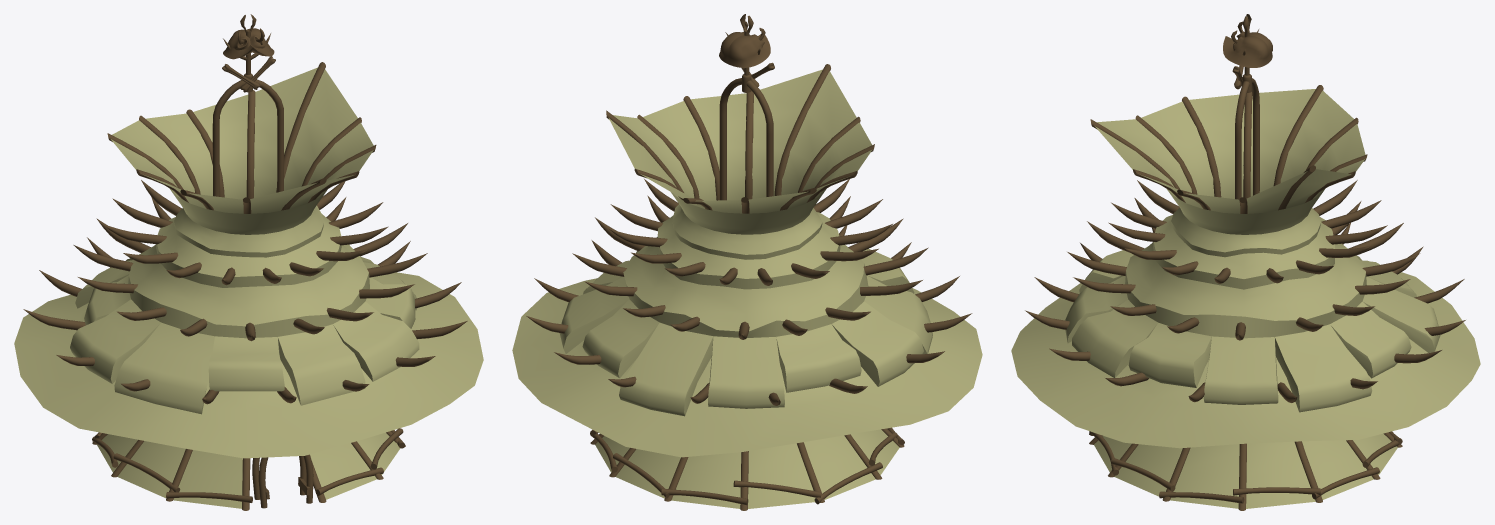
The model's file is Nearest Hut.fbx.
3 renders of one model, left to right at view 1: azimuth 30°, elevation 25°; view 2: azimuth 150°, elevation 25°; view 3: azimuth 270°, elevation 25°, orthographic.
Parts seen in each view (by area): view 1: hut_roof_and_tent_geo, hut_framing_details_geo; view 2: hut_roof_and_tent_geo, hut_framing_details_geo; view 3: hut_roof_and_tent_geo, hut_framing_details_geo.
Boxes of the visible parts, x1,y1,x2,y2 form: hut_roof_and_tent_geo: (14, 67, 483, 508); hut_framing_details_geo: (23, 14, 467, 510); hut_roof_and_tent_geo: (512, 69, 982, 508); hut_framing_details_geo: (526, 14, 972, 510); hut_roof_and_tent_geo: (1011, 89, 1480, 508); hut_framing_details_geo: (1025, 14, 1465, 510).
Bounding box in the file's own units: 13.23 × 13.4 × 13.23.
